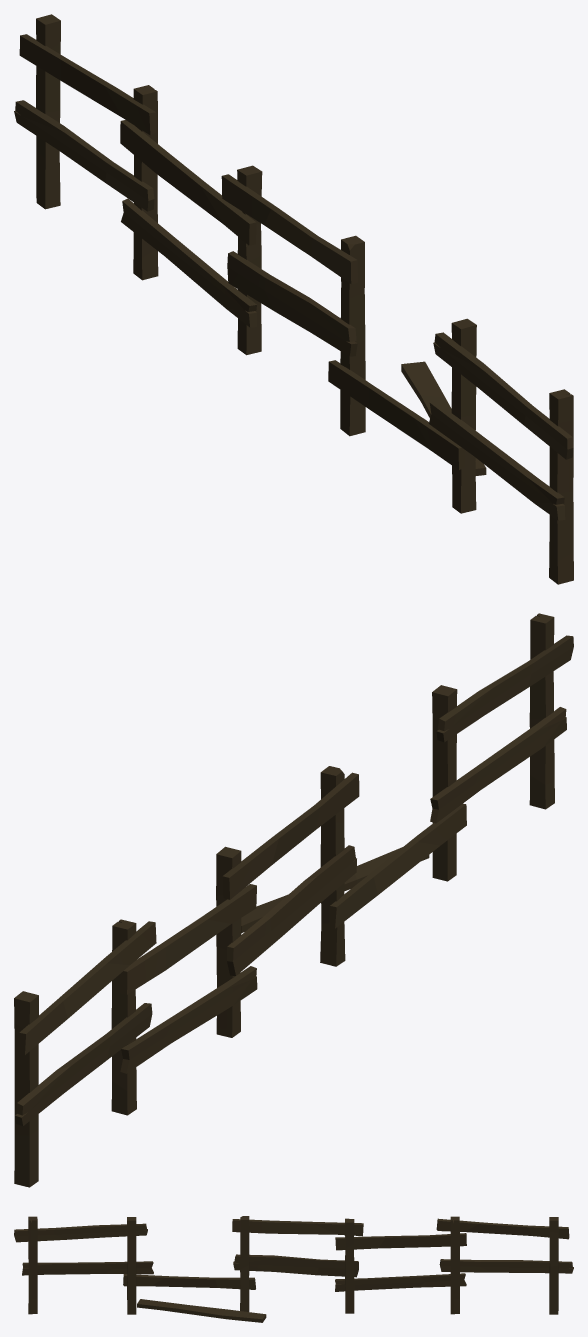
The model's file is fence_broken.fbx.
The picture shows the model from 3 angles, top to bottom: view 1: azimuth 30°, elevation 25°; view 2: azimuth 150°, elevation 25°; view 3: azimuth 270°, elevation 25°; orthographic projection. The views are drawn at different scales.
Parts seen in each view (by area): view 1: Cube.061; view 2: Cube.061; view 3: Cube.061.
Boxes of the visible parts, x1,y1,x2,y2 form: Cube.061: [14, 14, 573, 584]; Cube.061: [14, 613, 573, 1187]; Cube.061: [14, 1216, 573, 1322].
Bounding box in the file's own units: 557 × 961 × 5047.
